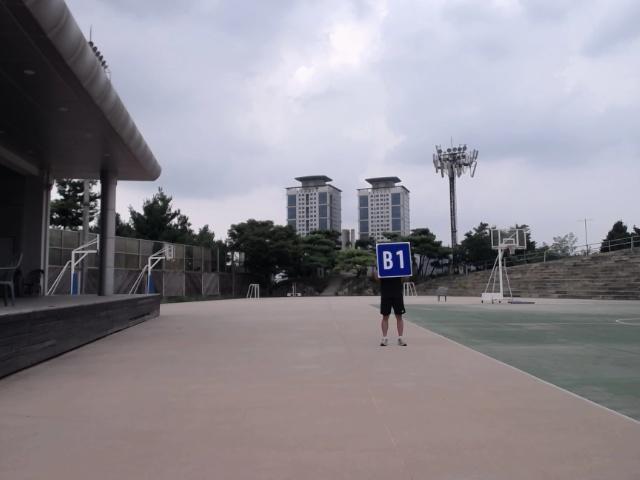delivery_b1: (376, 242, 412, 278)
